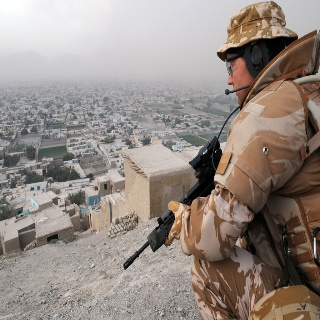rifle: (122, 137, 224, 273)
